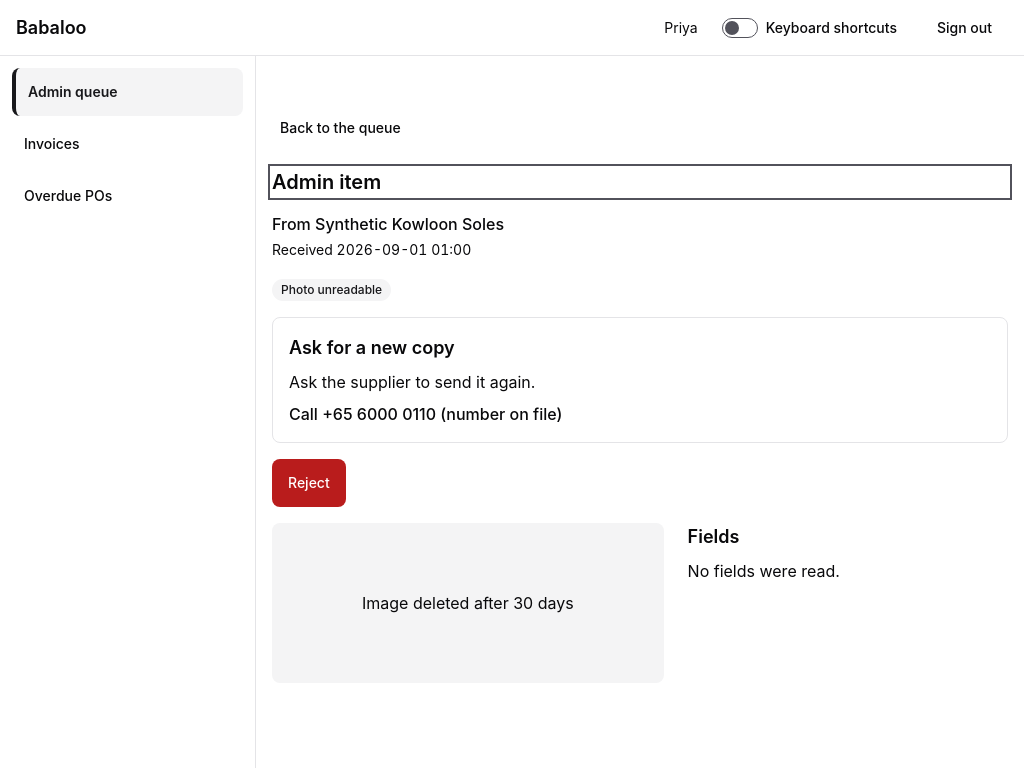
2.10 admin actions › asks for a new copy of an unreadable photo, needs a reject reason, and returns to the queue when another admin acted first
This screenshot has width=1024, height=768.
Click the button "Reject".
click(309, 483)  # box [272,459,346,507]
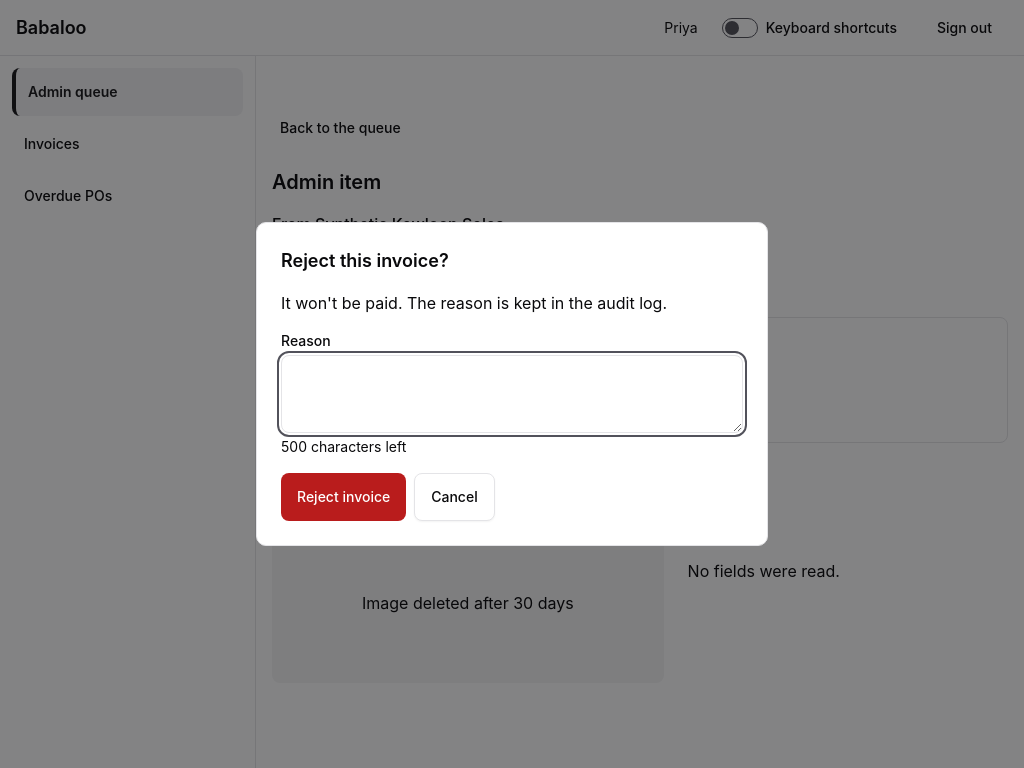
Click the button "Reject invoice".
click(344, 497)  # box [281,473,406,521]
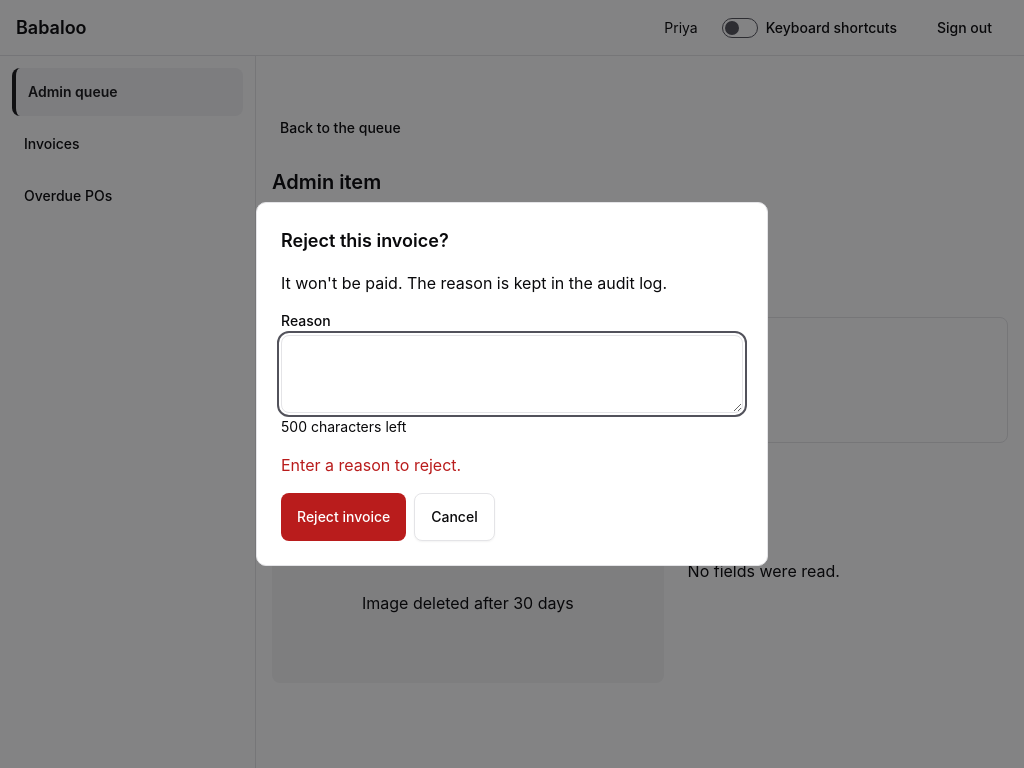
Expected: the message reads "Enter a reason to reject.", [281,455,461,475]
Type "Could not verify bank change" into the text box labelled "Reason".
click(512, 374); type("Could not verify bank change")  # box [281,335,743,413]
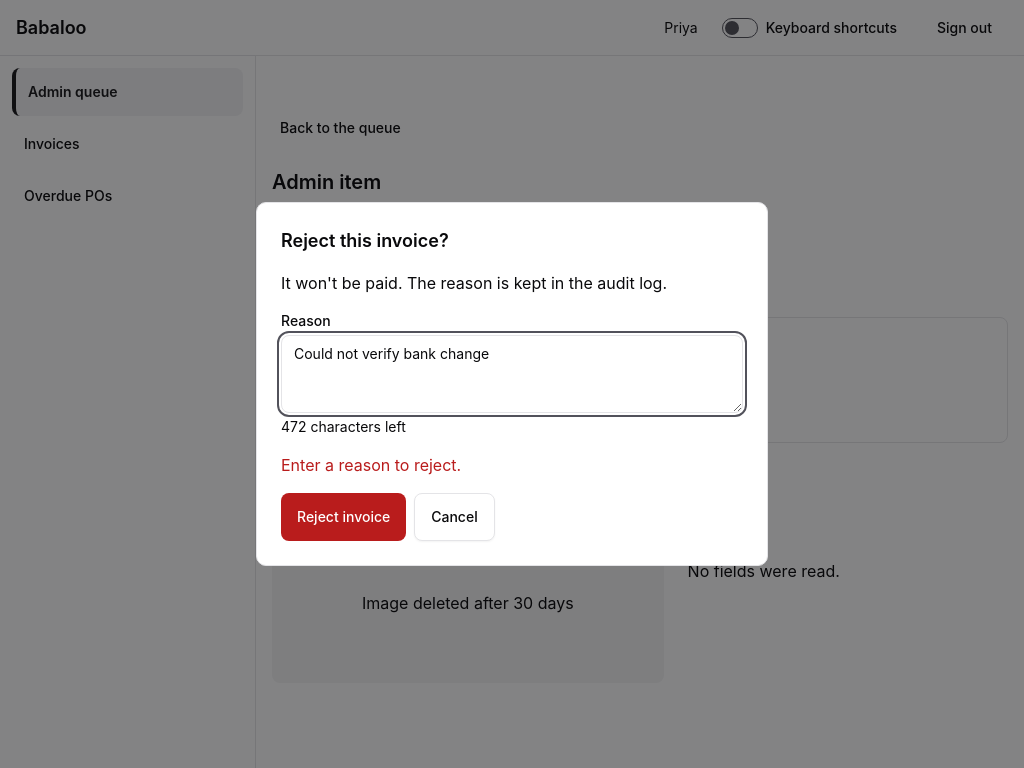
Click the button "Reject invoice".
click(344, 517)  # box [281,493,406,541]
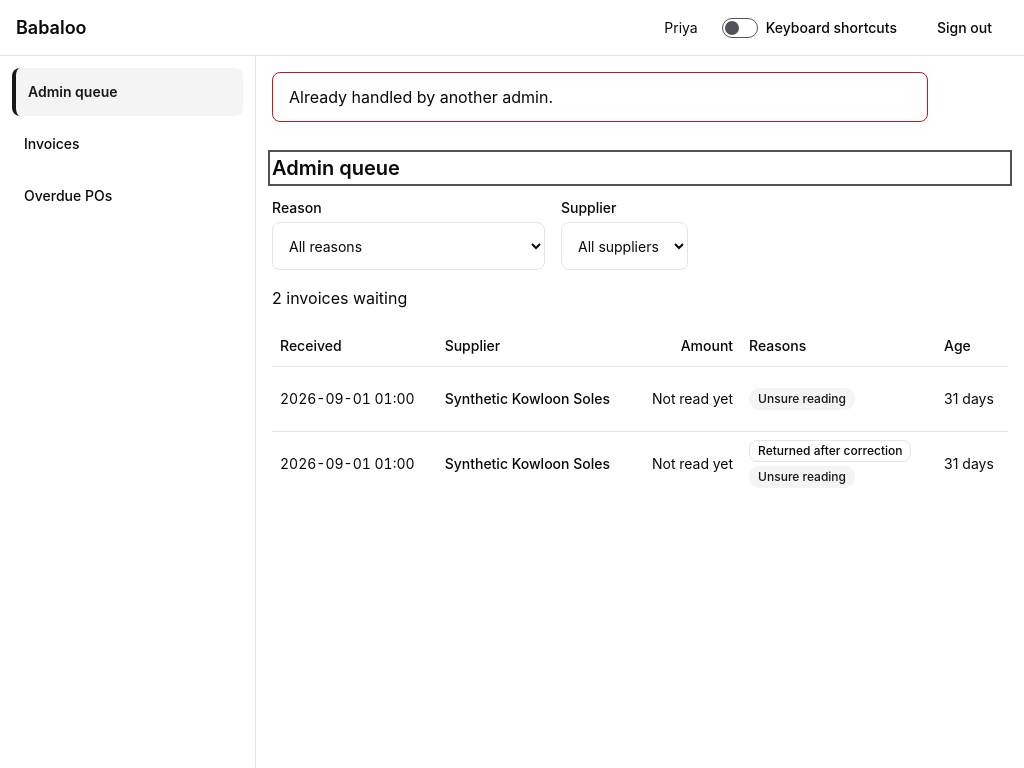
Expected: the row with test id "queue-row" does not show "Returned after correction", [272,366,1008,431]
Expected: the message with test id "shell-notice" reads "Already handled by another admin.", [289,87,553,107]
Expected: the row with test id "queue-row" shows "Returned after correction", [758,442,902,458]
